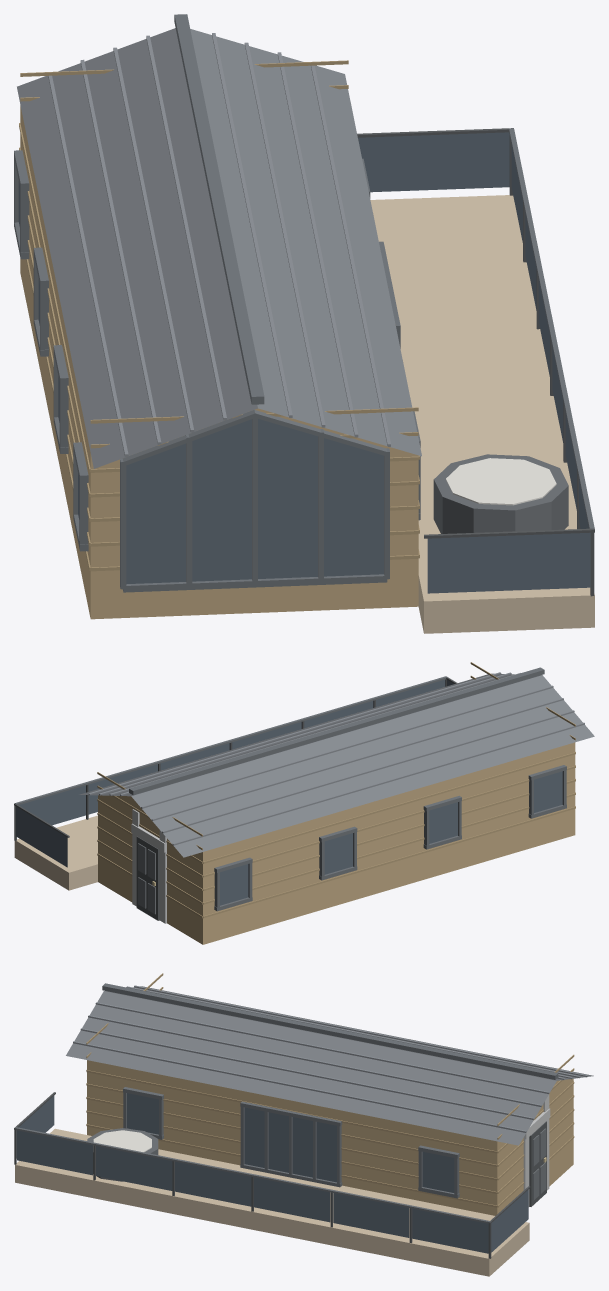
3 renders of one model, top to bottom at view 1: azimuth 30°, elevation 25°; view 2: azimuth 150°, elevation 25°; view 3: azimuth 270°, elevation 25°, orthographic. The views are drawn at different scales.
Visible parts, largest first — view 1: slate, larch, window_glass_015, slate_dk, door_wood, slate_lt, window_glass_007, window_glass_008, door_wood_p, band_dark, string, pipe; view 2: door_wood, slate, slate_dk, slate_lt, door_wood_p, larch, window_glass_008, window_glass_006, stone_band, door_dark_p, window_glass_019, window_glass_017 (+9 smaller); view 3: slate, door_wood, larch, slate_dk, slate_lt, door_wood_p, window_glass_002, window_glass_005, window_glass_006, window_glass_003, window_glass_004, window_glass_001 (+14 smaller).
Part boxes in pixels (box(x1,y1,x2,y2)): slate: box(17, 28, 421, 468); larch: box(370, 195, 594, 633); window_glass_015: box(126, 419, 383, 584); slate_dk: box(14, 14, 594, 592); door_wood: box(20, 105, 418, 619); slate_lt: box(48, 33, 390, 456); window_glass_007: box(427, 532, 590, 593); window_glass_008: box(358, 132, 509, 192); door_wood_p: box(19, 60, 419, 571); band_dark: box(433, 454, 568, 533); string: box(446, 458, 556, 505); pipe: box(357, 128, 594, 596); door_wood: box(98, 742, 575, 944); slate: box(79, 673, 594, 857); slate_dk: box(14, 667, 566, 911); slate_lt: box(88, 672, 584, 845); door_wood_p: box(97, 662, 575, 918); larch: box(14, 815, 97, 890); window_glass_008: box(16, 806, 67, 867); window_glass_006: box(19, 785, 85, 825); stone_band: box(131, 809, 166, 923); door_dark_p: box(138, 843, 155, 914); window_glass_019: box(534, 771, 562, 812); window_glass_017: box(324, 833, 352, 874); slate: box(66, 986, 593, 1145); door_wood: box(87, 1060, 573, 1215); larch: box(15, 1128, 529, 1276); slate_dk: box(15, 983, 558, 1223); slate_lt: box(73, 985, 587, 1132); door_wood_p: box(86, 973, 574, 1207); window_glass_002: box(96, 1146, 172, 1190); window_glass_005: box(333, 1193, 409, 1237); window_glass_006: box(412, 1208, 488, 1253); window_glass_003: box(175, 1161, 251, 1206); window_glass_004: box(254, 1177, 330, 1222); window_glass_001: box(17, 1130, 92, 1175).
Size of the model in its own units: 11.9 by 3.62 by 14.76.
